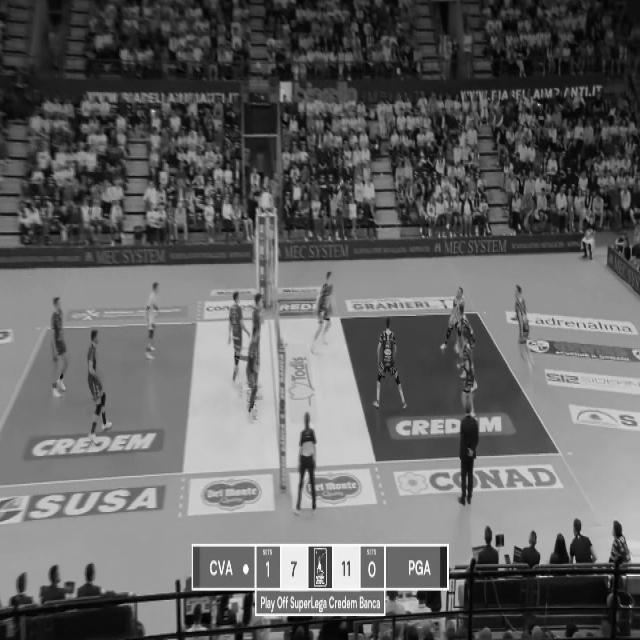volleyball court: (1, 308, 560, 472)
